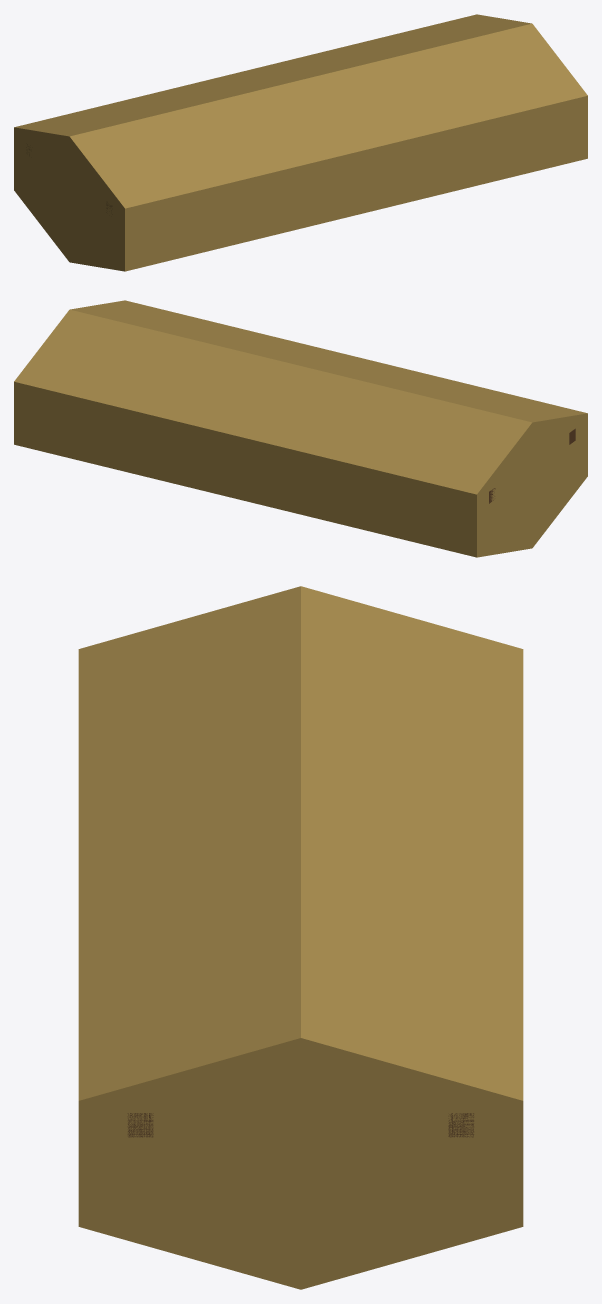
File: RoofRidgeThatch.fbx
The picture shows the model from 3 angles, top to bottom: view 1: azimuth 30°, elevation 25°; view 2: azimuth 150°, elevation 25°; view 3: azimuth 270°, elevation 25°; orthographic projection. The views are drawn at different scales.
Visible parts, largest first — view 1: Kit_RoofRidgeThatch; view 2: Kit_RoofRidgeThatch; view 3: Kit_RoofRidgeThatch.
Part boxes in pixels (x1,y1,x2,y2): Kit_RoofRidgeThatch: [14, 14, 587, 271]; Kit_RoofRidgeThatch: [14, 300, 587, 557]; Kit_RoofRidgeThatch: [78, 586, 523, 1289].
Bounding box in the file's own units: 1 × 0.26 × 0.4157.
